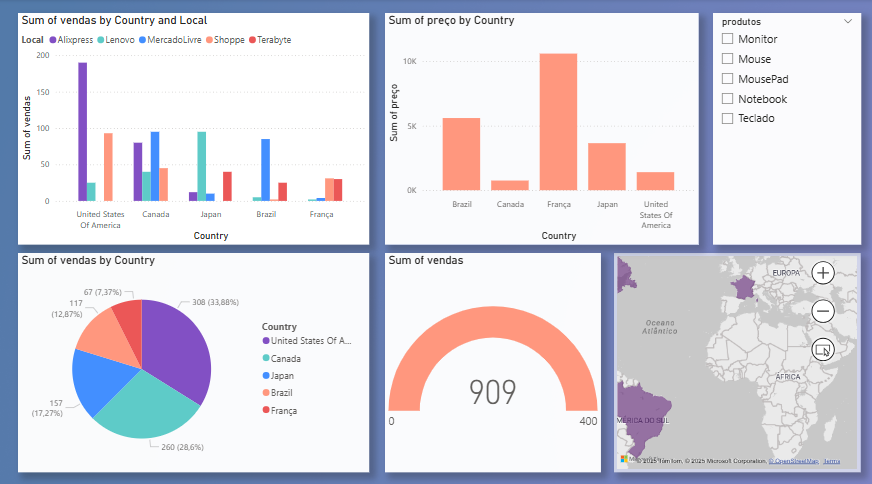

The dashboard page shown, as its layout file describes it:
{"tool":"powerbi","page":{"name":"Página 1","canvas":[1280,720],"ordinal":0},"visuals":[{"type":"filledMap","fields":{"Category":["Tabela1.Country"]},"box":[901.5,386.3,361.5,320.5],"z":0},{"type":"clusteredColumnChart","fields":{"Category":["Tabela1.Country"],"Series":["Tabela1.Local"],"Y":["Sum(Tabela1.vendas)"]},"box":[16.1,20.5,513.7,339.5],"z":1000},{"type":"slicer","fields":{"Values":["Tabela1.produtos"]},"box":[901.5,20.5,361.5,339.5],"z":2000},{"type":"columnChart","fields":{"Category":["Tabela1.Country","Tabela1.produtos"],"Y":["Sum(Tabela1.preço)"]},"box":[556.1,20.5,316.1,339.5],"z":3000},{"type":"gauge","fields":{"Y":["Sum(Tabela1.vendas)"]},"box":[556.1,386.3,316.1,320.5],"z":4000},{"type":"pieChart","fields":{"Category":["Tabela1.Country"],"Y":["Sum(Tabela1.vendas)"]},"box":[16.1,386.3,513.7,320.5],"z":5000}]}

Visuals, with their boxes in screenshot pixels (x1, y1, x2, y2), scaled from the page's 1280x720 canvas onto the 872x484 screenshot:
filledMap - Tabela1.Country: locate(614, 260, 860, 475)
clusteredColumnChart - Tabela1.Country x Tabela1.Local: locate(11, 14, 361, 242)
slicer - Tabela1.produtos: locate(614, 14, 860, 242)
columnChart - Tabela1.Country x Tabela1.produtos: locate(379, 14, 594, 242)
gauge - Sum(Tabela1.vendas): locate(379, 260, 594, 475)
pieChart - Tabela1.Country x Sum(Tabela1.vendas): locate(11, 260, 361, 475)
